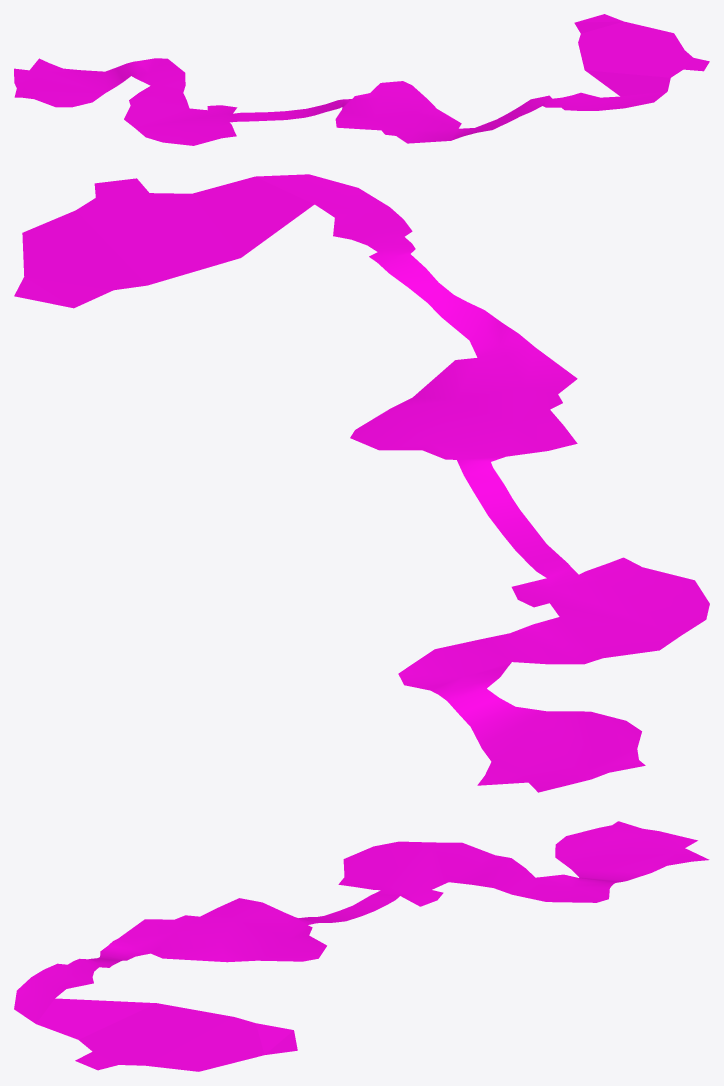
The model's file is S_Bsp_1061_readable.FBX.
The picture shows the model from 3 angles, top to bottom: view 1: azimuth 30°, elevation 25°; view 2: azimuth 150°, elevation 25°; view 3: azimuth 270°, elevation 25°; orthographic projection. The views are drawn at different scales.
Parts seen in each view (by area): view 1: S_Bsp_1061; view 2: S_Bsp_1061; view 3: S_Bsp_1061.
Boxes of the visible parts, bbox=[...] form: S_Bsp_1061: bbox=[14, 14, 709, 145]; S_Bsp_1061: bbox=[14, 174, 709, 792]; S_Bsp_1061: bbox=[14, 821, 709, 1071].
Bounding box in the file's own units: 14417 × 1684 × 12978.
